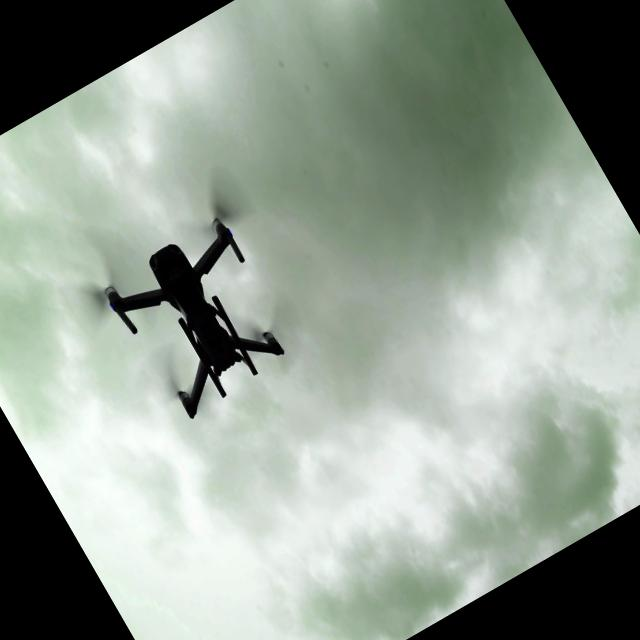drone: (38, 147, 358, 467)
